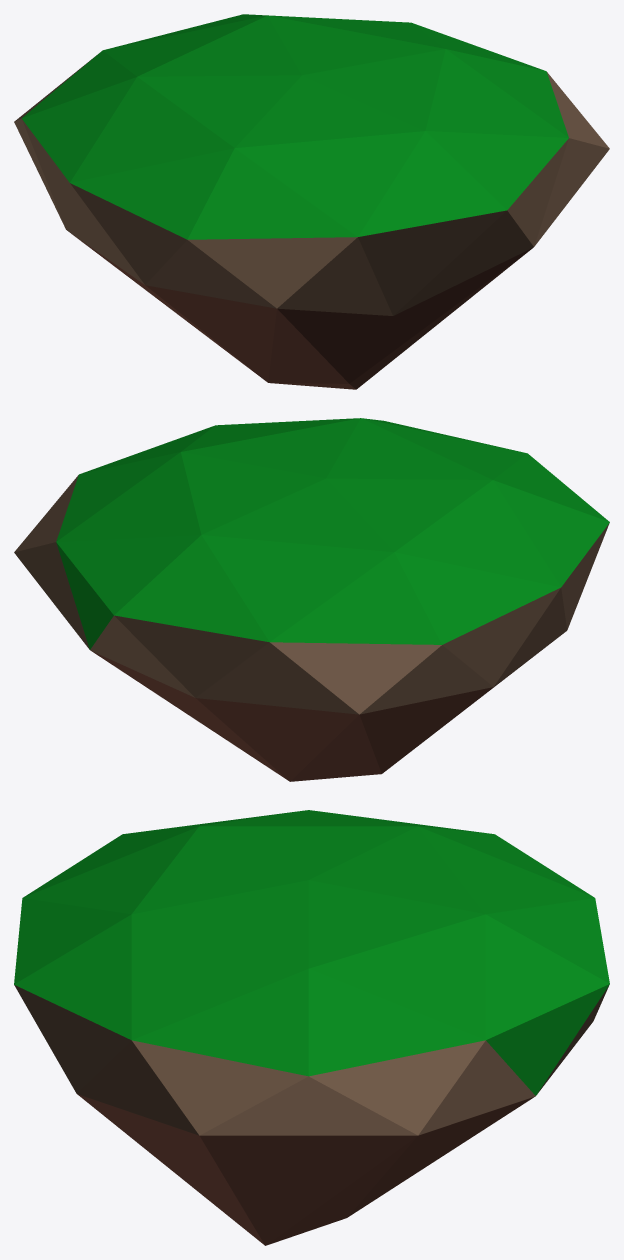
3 views of the same model, one above another, from view 1: azimuth 30°, elevation 25°; view 2: azimuth 150°, elevation 25°; view 3: azimuth 270°, elevation 25° (orthographic). The views are drawn at different scales.
Visible parts, largest first — view 1: Icosphere; view 2: Icosphere; view 3: Icosphere.
Part boxes in pixels (left/top/right/bottom): Icosphere: left=14, top=14, right=609, bottom=389; Icosphere: left=14, top=418, right=609, bottom=781; Icosphere: left=14, top=810, right=609, bottom=1245.
Bounding box in the file's own units: 180 × 108 × 168.
